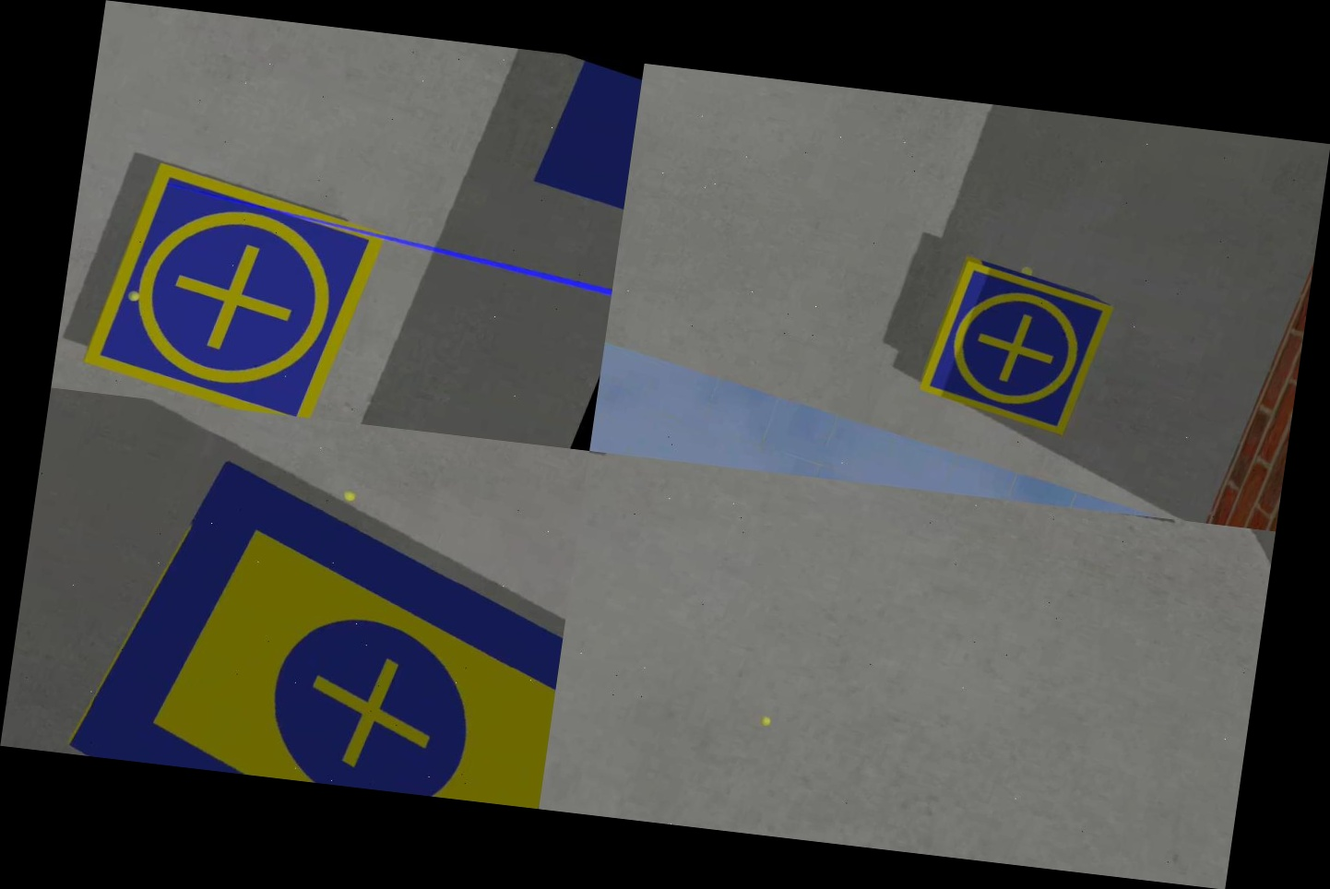large_base: (48, 431, 584, 808), (524, 54, 644, 223)
small_base: (73, 152, 396, 424), (907, 251, 1122, 444)
